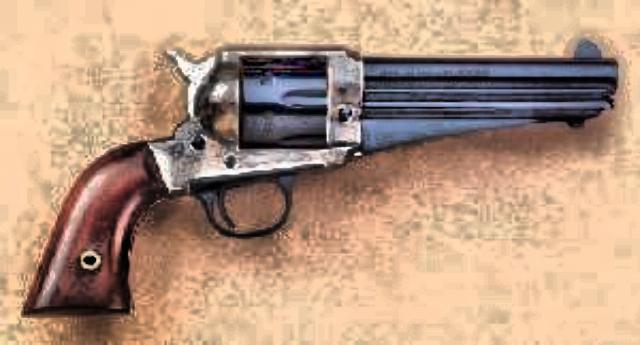pistol: (19, 31, 620, 316)
